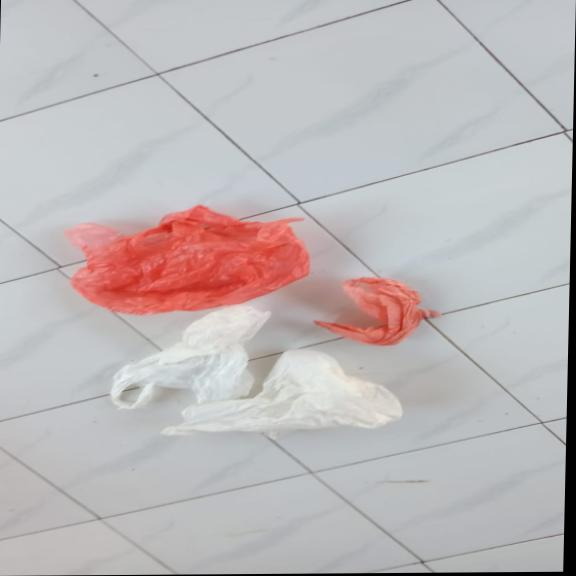Plastik: (60, 204, 311, 316), (159, 348, 403, 436), (106, 304, 272, 410), (313, 277, 442, 347)
